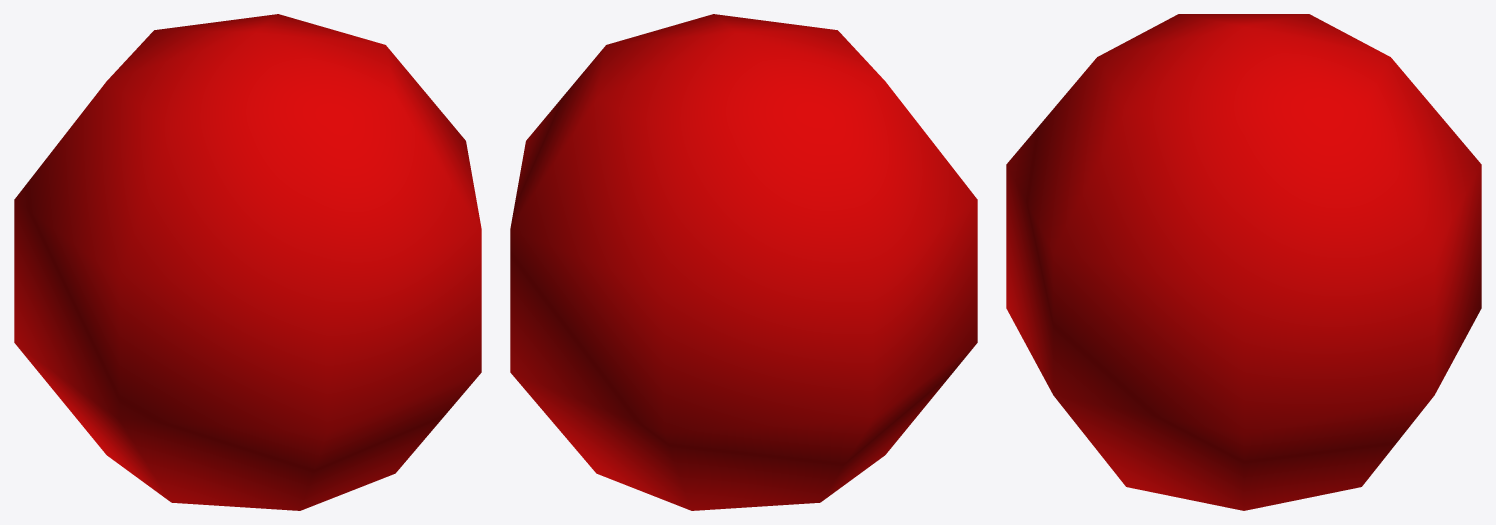
File: OriginMarker.gltf
3 views of the same model, side by side, from view 1: azimuth 30°, elevation 25°; view 2: azimuth 150°, elevation 25°; view 3: azimuth 270°, elevation 25° (orthographic).
Parts seen in each view (by area): view 1: geo1; view 2: geo1; view 3: geo1.
Boxes of the visible parts, left/top/right/bottom form: geo1: left=14, top=14, right=481, bottom=510; geo1: left=510, top=14, right=977, bottom=510; geo1: left=1006, top=14, right=1481, bottom=510.
Size of the model in its own units: 0.452 by 0.5 by 0.4636.
